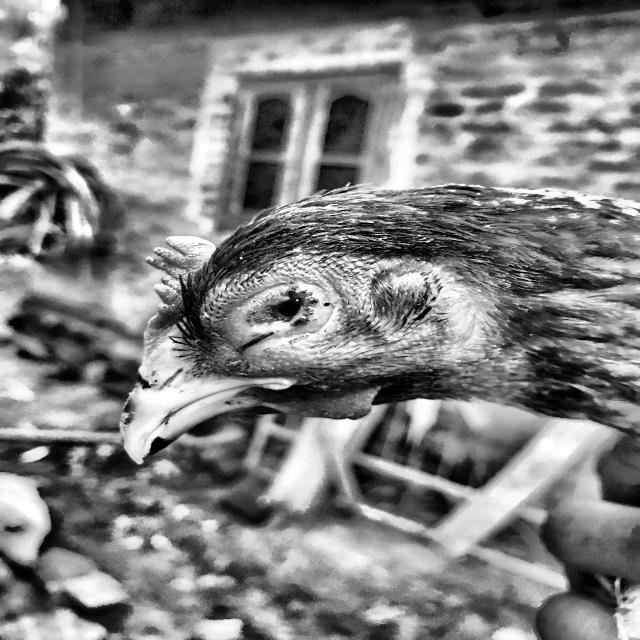Coryza: (68, 130, 616, 503)
